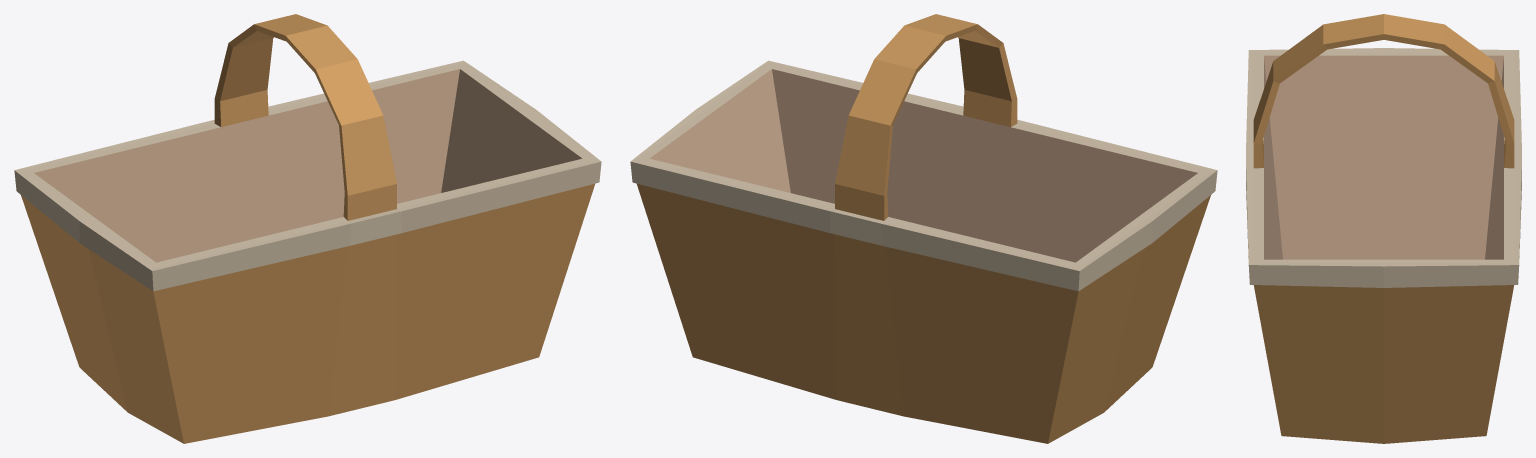
The model's file is Prop_PicnicBasket.fbx.
3 views of the same model, side by side, from view 1: azimuth 30°, elevation 25°; view 2: azimuth 150°, elevation 25°; view 3: azimuth 270°, elevation 25° (orthographic). The views are drawn at different scales.
Parts seen in each view (by area): view 1: Picnic Basket; view 2: Picnic Basket; view 3: Picnic Basket.
Boxes of the visible parts, left/top/right/bottom form: Picnic Basket: left=14, top=14, right=601, bottom=443; Picnic Basket: left=630, top=14, right=1217, bottom=443; Picnic Basket: left=1246, top=14, right=1521, bottom=443.
Bounding box in the file's own units: 78.31 × 56.43 × 41.76.
